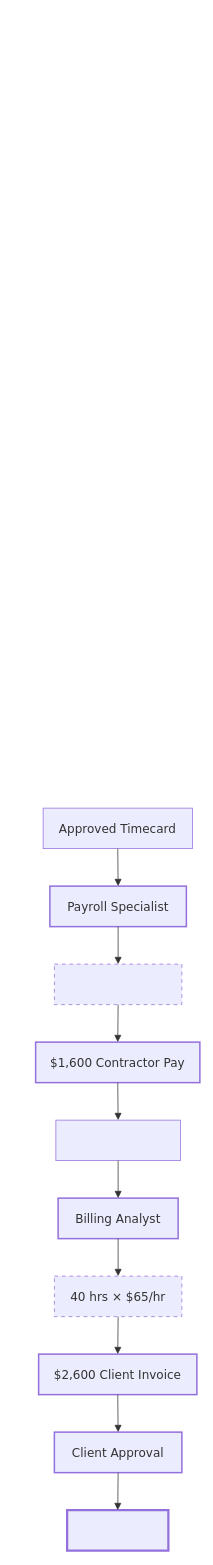
This 213x1565 diagram has some shape labels left out. The box of each missing label's shape, as (x1, y1, x2, y2) in pixels:
40 hrs × $40/hr: (54, 963, 182, 1005)
APPROVED: (66, 1509, 169, 1551)
Billing Request: (55, 1119, 180, 1161)
